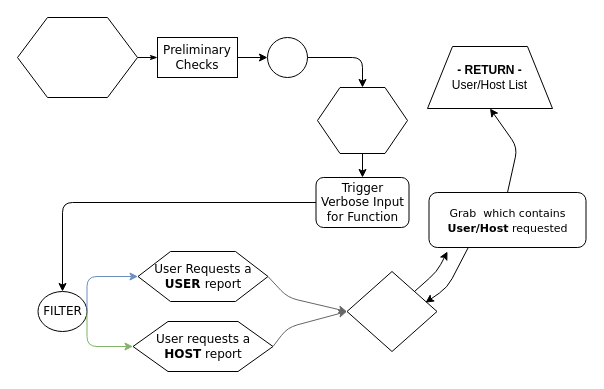
The diagram is 604 pixels wide and 389 high, and some of its shapes have lost their labels. Each missing label, with the centre of its shape:
"- INPUT - Line List, & Arguments" goes at point (77, 57).
"Arguments for Verbose Input Exist" goes at point (362, 120).
"For item in Line List" goes at point (391, 311).
"IF" goes at point (287, 57).
